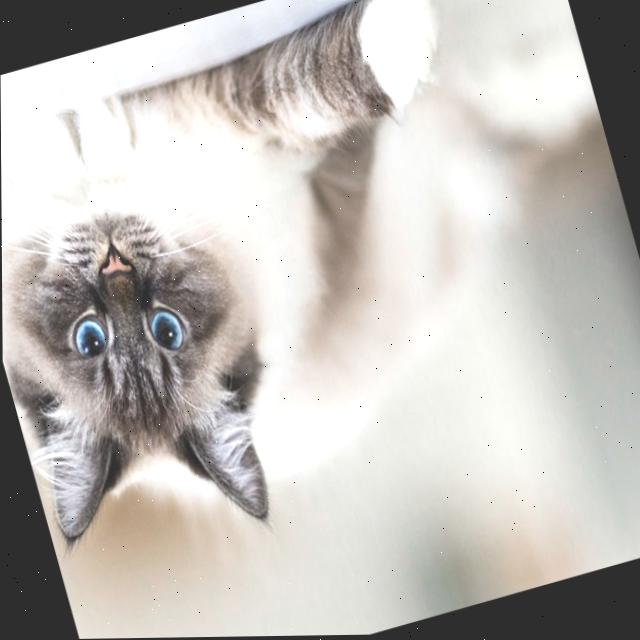Neva Masquerade: (0, 0, 640, 591)
